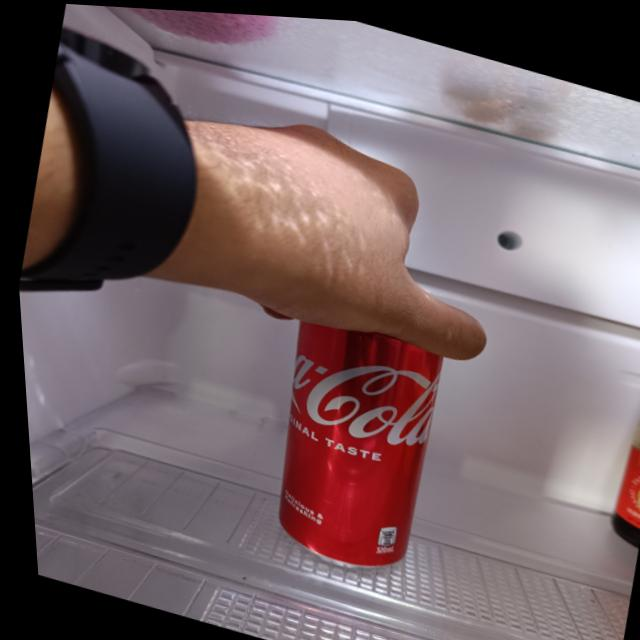coke: (243, 278, 453, 574)
